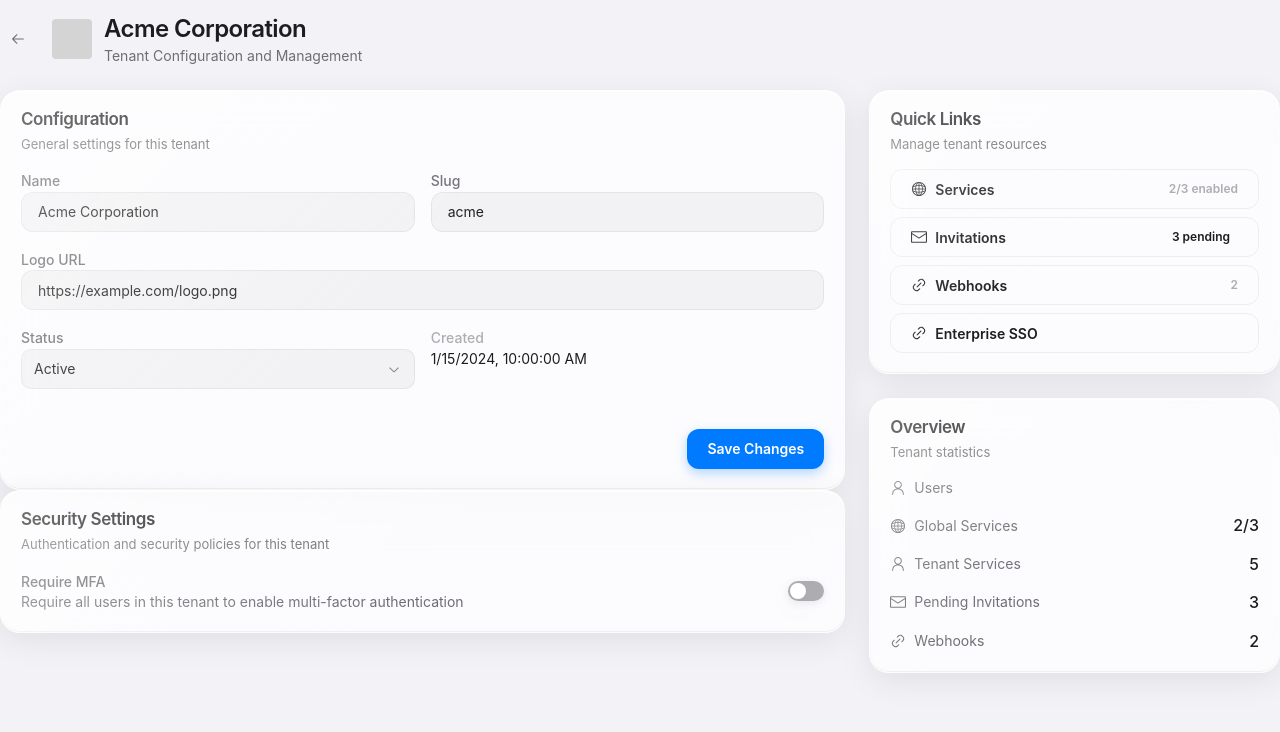
Tenant Detail Page › feedback messages › displays success message after update
Expected: the field labelled "Name" is shown, [21, 192, 415, 232]
Click the button "Save Changes" at (756, 449), box [687, 429, 824, 469]
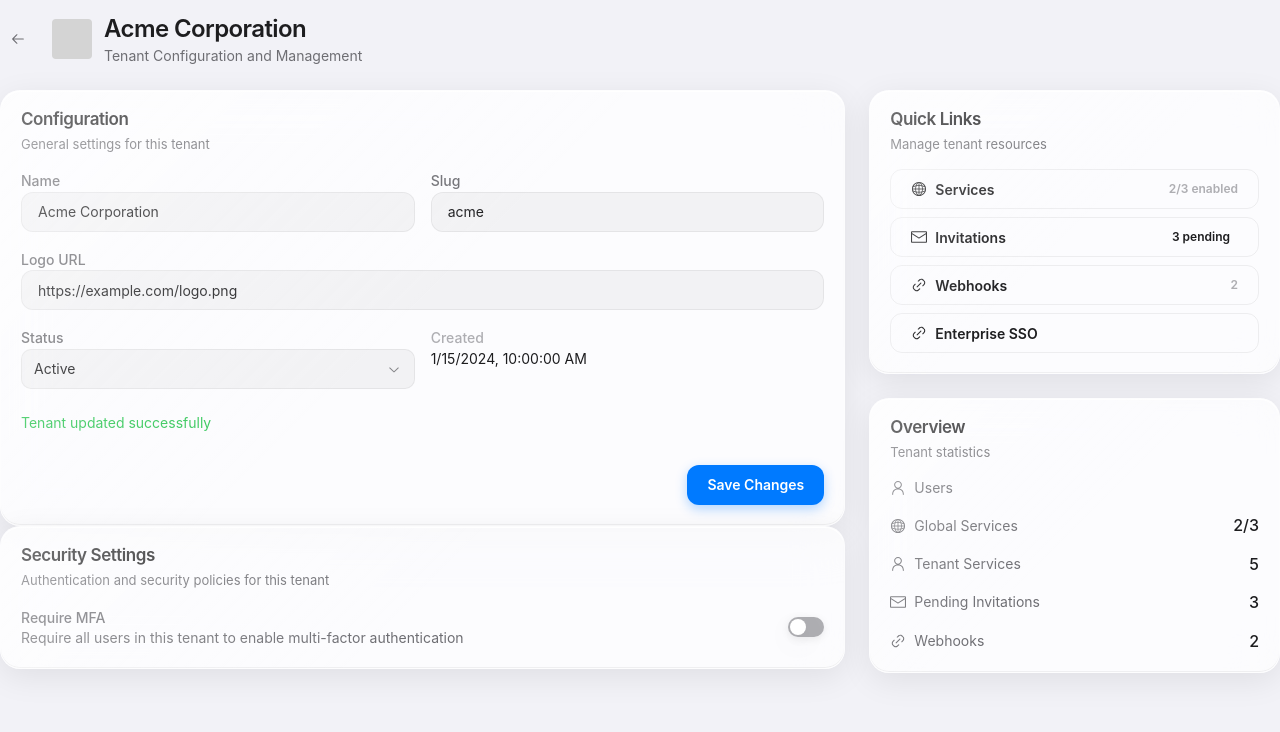
Expected: the text "Tenant updated successfully" is shown, [21, 414, 211, 431]
